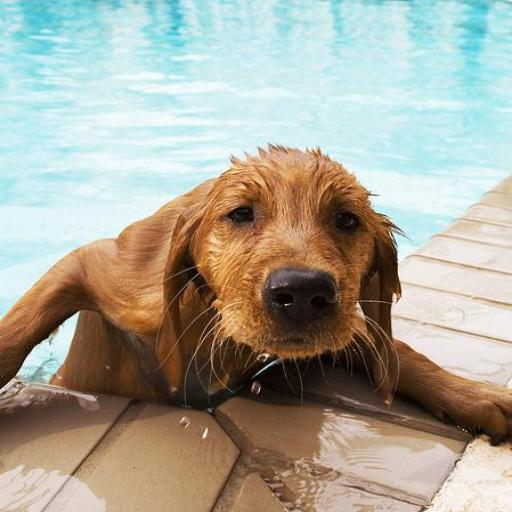dog_face: (186, 152, 400, 355)
